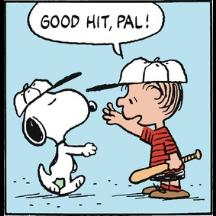snoopy: (13, 72, 97, 196)
